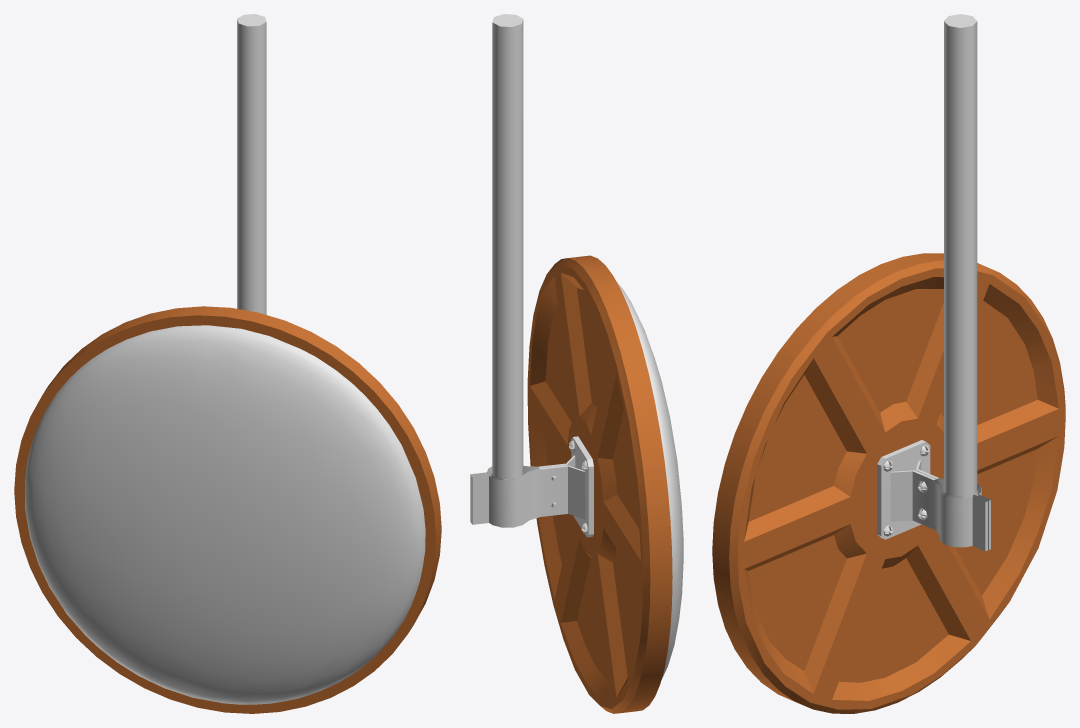
Rendered from Mirror.fbx.
3 views of the same model, side by side, from view 1: azimuth 30°, elevation 25°; view 2: azimuth 150°, elevation 25°; view 3: azimuth 270°, elevation 25° (orthographic). The views are drawn at different scales.
Visible parts, largest first — view 1: convex mirror.001, Cylinder.844; view 2: convex mirror.001, Cylinder.844; view 3: convex mirror.001, Cylinder.844.
Boxes of the visible parts, box(x1,y1,x2,y2) form: convex mirror.001: box(14, 306, 441, 713); Cylinder.844: box(237, 14, 266, 314); convex mirror.001: box(470, 255, 683, 713); Cylinder.844: box(492, 14, 523, 478); convex mirror.001: box(712, 253, 1065, 713); Cylinder.844: box(944, 14, 977, 496).
Bounding box in the file's own units: 58.59 × 130 × 58.59.
